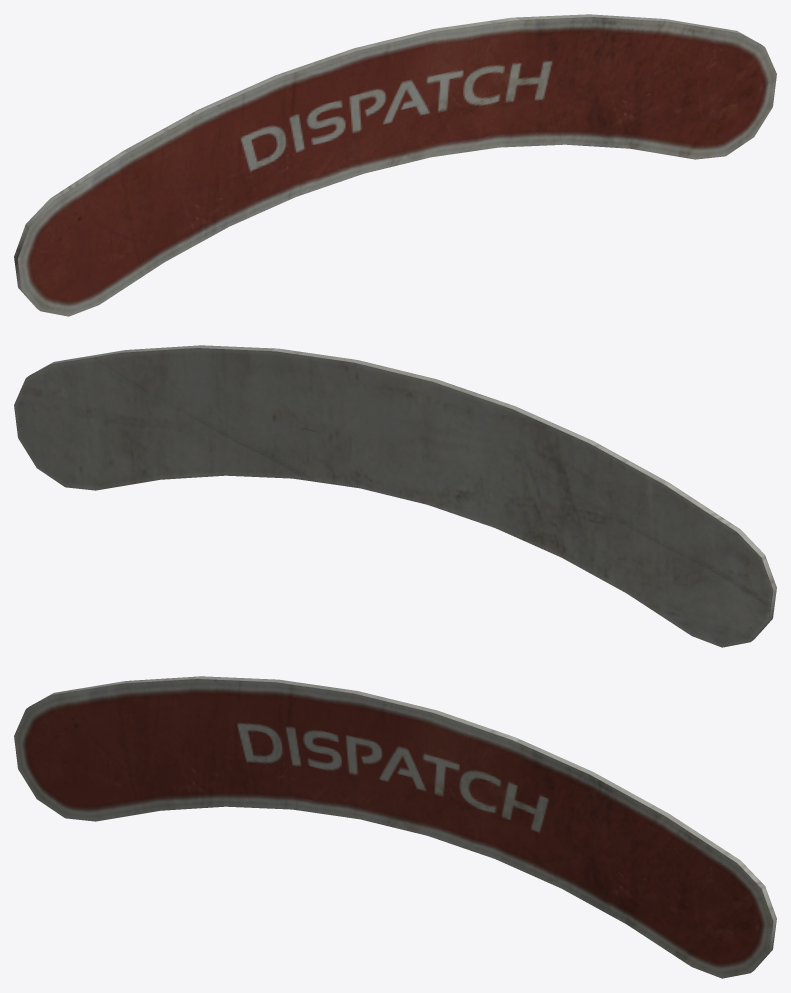
The model's file is tau_inside_communications.dae.
3 renders of one model, top to bottom at view 1: azimuth 30°, elevation 25°; view 2: azimuth 150°, elevation 25°; view 3: azimuth 330°, elevation 25°, orthographic.
Visible parts, largest first — view 1: Geometry_mesh026Node; view 2: Geometry_mesh026Node; view 3: Geometry_mesh026Node.
Part boxes in pixels (x1,y1,x2,y2): Geometry_mesh026Node: (14,14,776,316); Geometry_mesh026Node: (14,345,776,647); Geometry_mesh026Node: (14,676,776,978).
Bounding box in the file's own units: 1.17 × 0.2881 × 0.00977.
